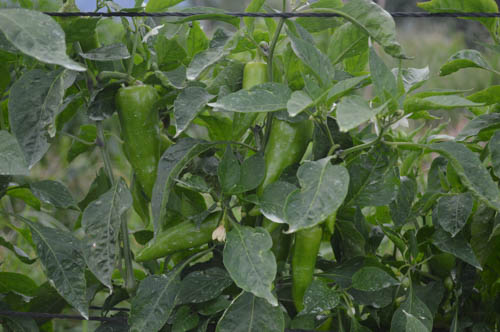ChiliPepper: (259, 115, 312, 201), (119, 87, 159, 195), (133, 215, 226, 252), (288, 229, 322, 314), (235, 64, 268, 138)
